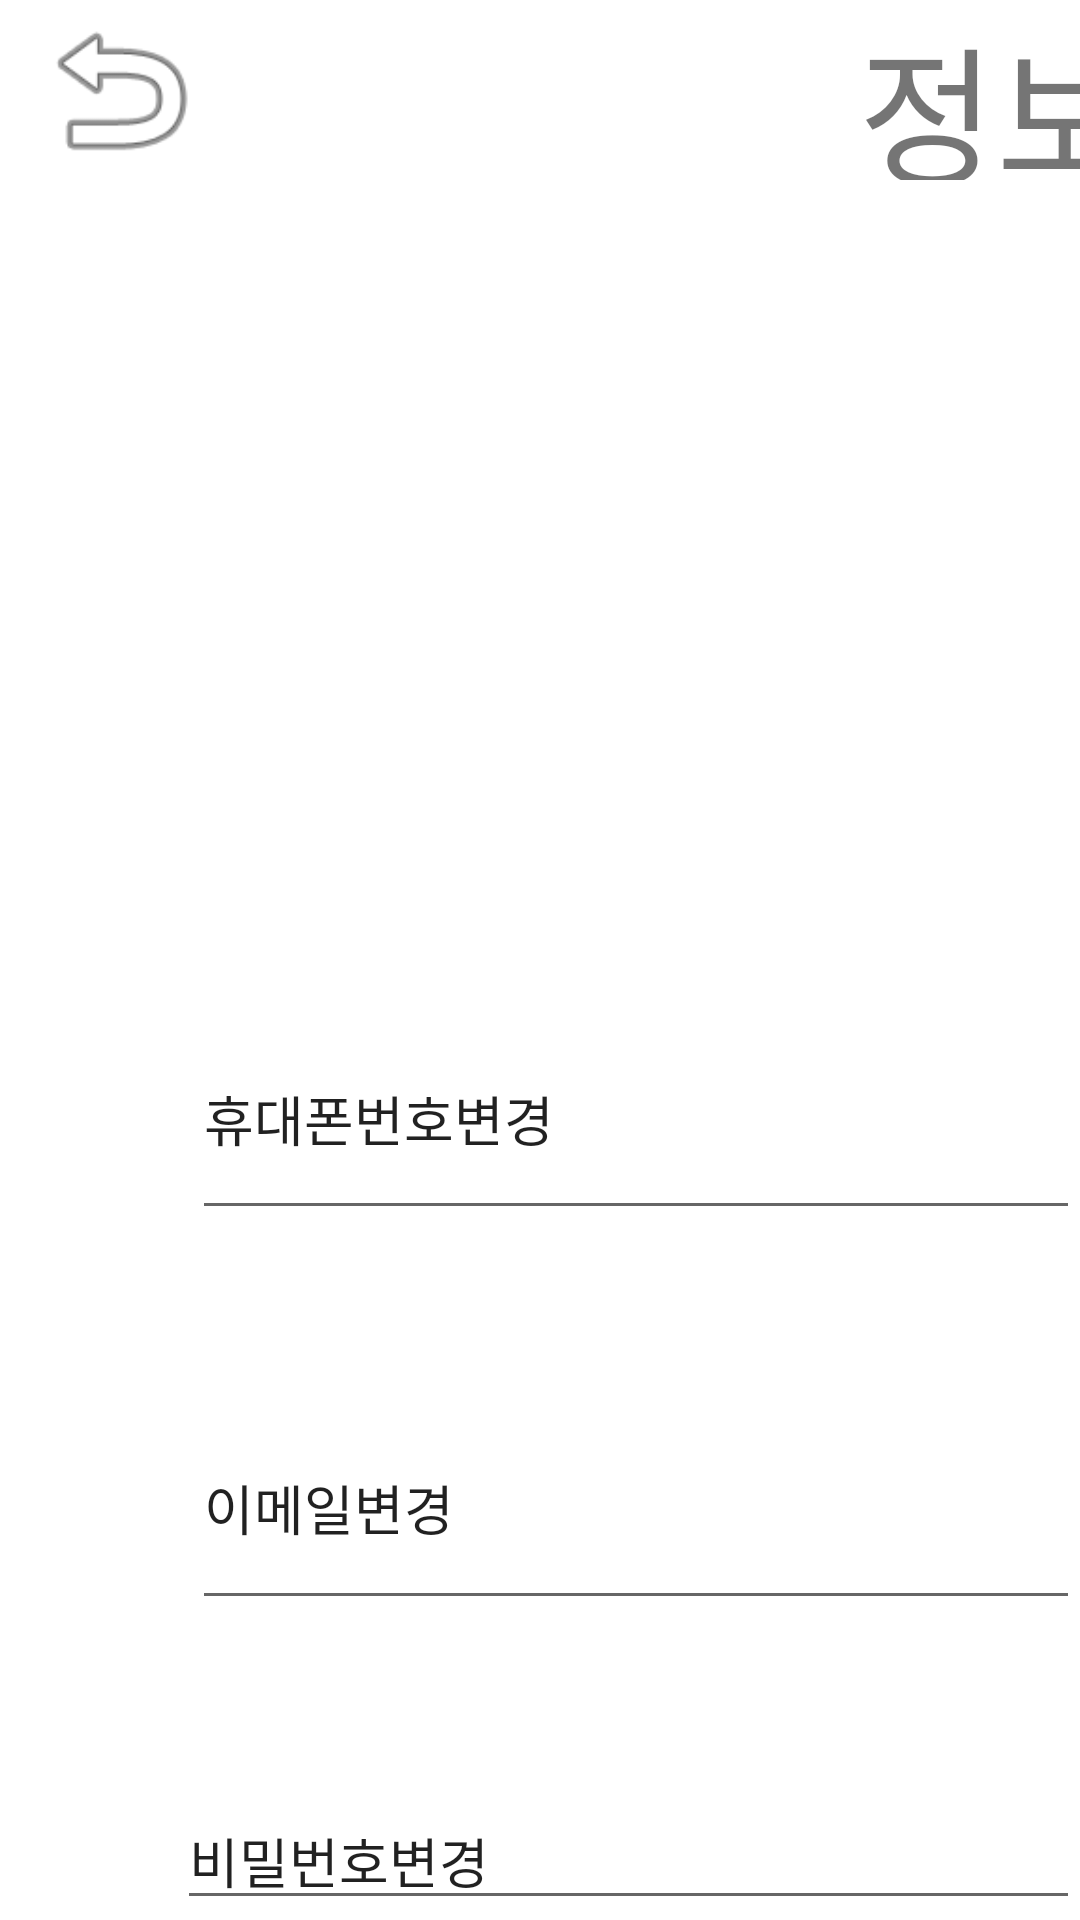

Named icons in this screenshot (1080px×1920px) and their centers, [x,y]:
revert: [122,91]
